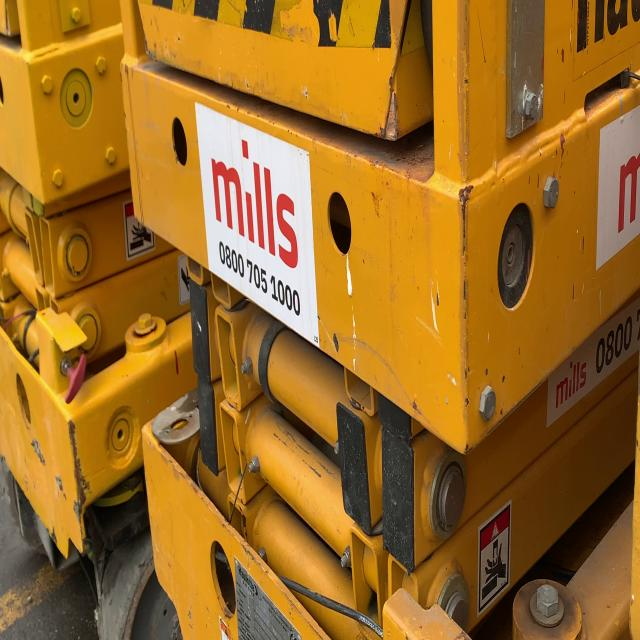Adesivos: (194, 100, 321, 352)
